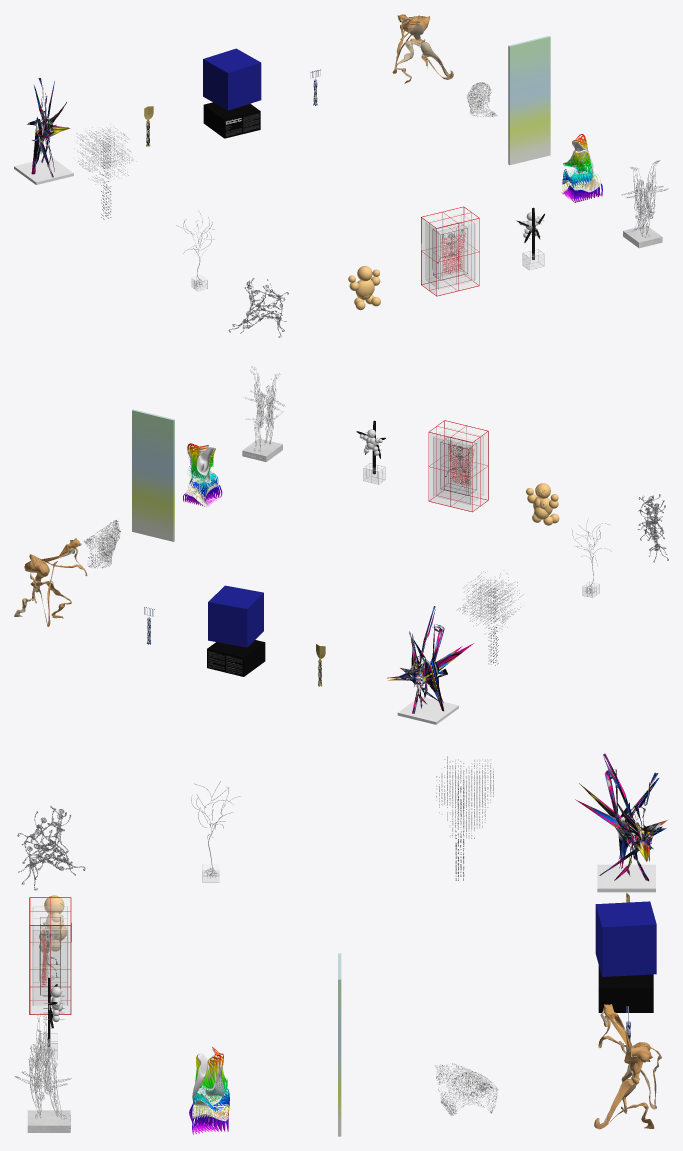
The picture shows the model from 3 angles, top to bottom: view 1: azimuth 30°, elevation 25°; view 2: azimuth 150°, elevation 25°; view 3: azimuth 270°, elevation 25°; orthographic projection. The views are drawn at different scales.
Visible parts, largest first — view 1: Mesh_0128, 2002-TEA001, Mesh_2007, Mesh_0031, Mesh_4003, LEGEND, CROOKEDASWEFUNASYU001, Mesh_1082, MYSTIC-BRED004, Mesh_2038, Mesh_1082_1, Mesh_2038_1 (+1 smaller); view 2: Mesh_0128, 2002-TEA001, Mesh_2007, LEGEND, Mesh_0031, Mesh_4003, CROOKEDASWEFUNASYU001, MYSTIC-BRED004, Mesh_1082, Mesh_2038, Mesh_1082_1, Mesh_2038_1 (+1 smaller); view 3: Mesh_0128, LEGEND, Mesh_0031, Mesh_2007, Mesh_4003, CROOKEDASWEFUNASYU001, Mesh_2038, Mesh_1082, Mesh_1082_1, Mesh_265001, MYSTIC-BRED004, 2002-TEA001.
Boxes of the visible parts, bbox=[...] form: Mesh_0128: bbox=[73, 82, 668, 337]; 2002-TEA001: bbox=[508, 36, 550, 165]; Mesh_2007: bbox=[421, 207, 478, 295]; Mesh_0031: bbox=[203, 48, 261, 110]; Mesh_4003: bbox=[426, 215, 473, 288]; LEGEND: bbox=[14, 78, 73, 184]; CROOKEDASWEFUNASYU001: bbox=[392, 14, 453, 83]; Mesh_1082: bbox=[561, 134, 602, 202]; MYSTIC-BRED004: bbox=[432, 222, 467, 280]; Mesh_2038: bbox=[203, 102, 260, 138]; Mesh_1082_1: bbox=[561, 140, 601, 193]; Mesh_2038_1: bbox=[225, 112, 260, 137]; Mesh_0128: bbox=[84, 366, 668, 665]; 2002-TEA001: bbox=[132, 409, 174, 541]; Mesh_2007: bbox=[429, 421, 487, 510]; LEGEND: bbox=[387, 606, 473, 724]; Mesh_0031: bbox=[208, 585, 263, 647]; Mesh_4003: bbox=[434, 428, 482, 503]; CROOKEDASWEFUNASYU001: bbox=[14, 538, 87, 626]; MYSTIC-BRED004: bbox=[440, 437, 476, 495]; Mesh_1082: bbox=[183, 443, 222, 506]; Mesh_2038: bbox=[207, 640, 265, 676]; Mesh_1082_1: bbox=[185, 445, 219, 506]; Mesh_2038_1: bbox=[207, 650, 243, 676]; Mesh_0128: bbox=[14, 756, 498, 1128]; LEGEND: bbox=[575, 753, 668, 892]; Mesh_0031: bbox=[595, 901, 656, 976]; Mesh_2007: bbox=[30, 898, 70, 1013]; Mesh_4003: bbox=[34, 907, 66, 1004]; CROOKEDASWEFUNASYU001: bbox=[594, 1004, 661, 1129]; Mesh_2038: bbox=[598, 965, 653, 1012]; Mesh_1082: bbox=[189, 1047, 229, 1134]; Mesh_1082_1: bbox=[192, 1046, 229, 1121]; Mesh_265001: bbox=[27, 1110, 70, 1132]; MYSTIC-BRED004: bbox=[39, 917, 61, 995]; 2002-TEA001: bbox=[338, 953, 341, 1136].
Bounding box in the file's own units: 41.43 × 11.05 × 41.61.
18 materials, 13 textured.
